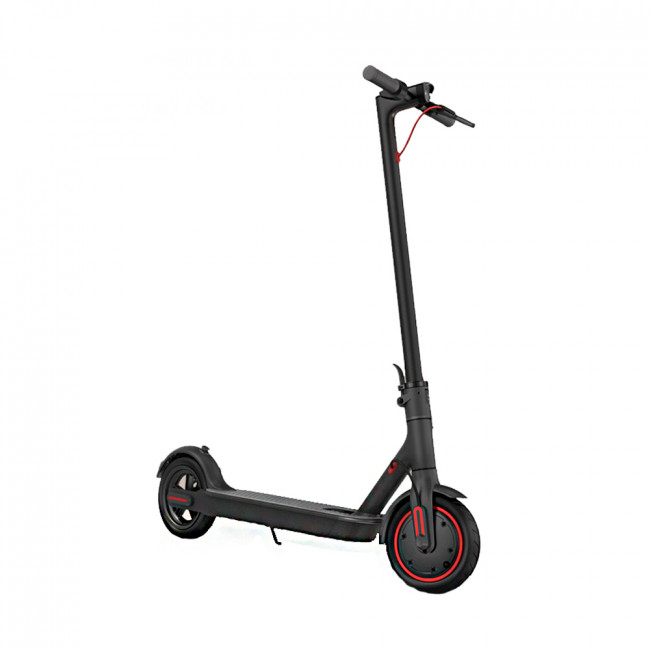scooter: (153, 60, 487, 600)
